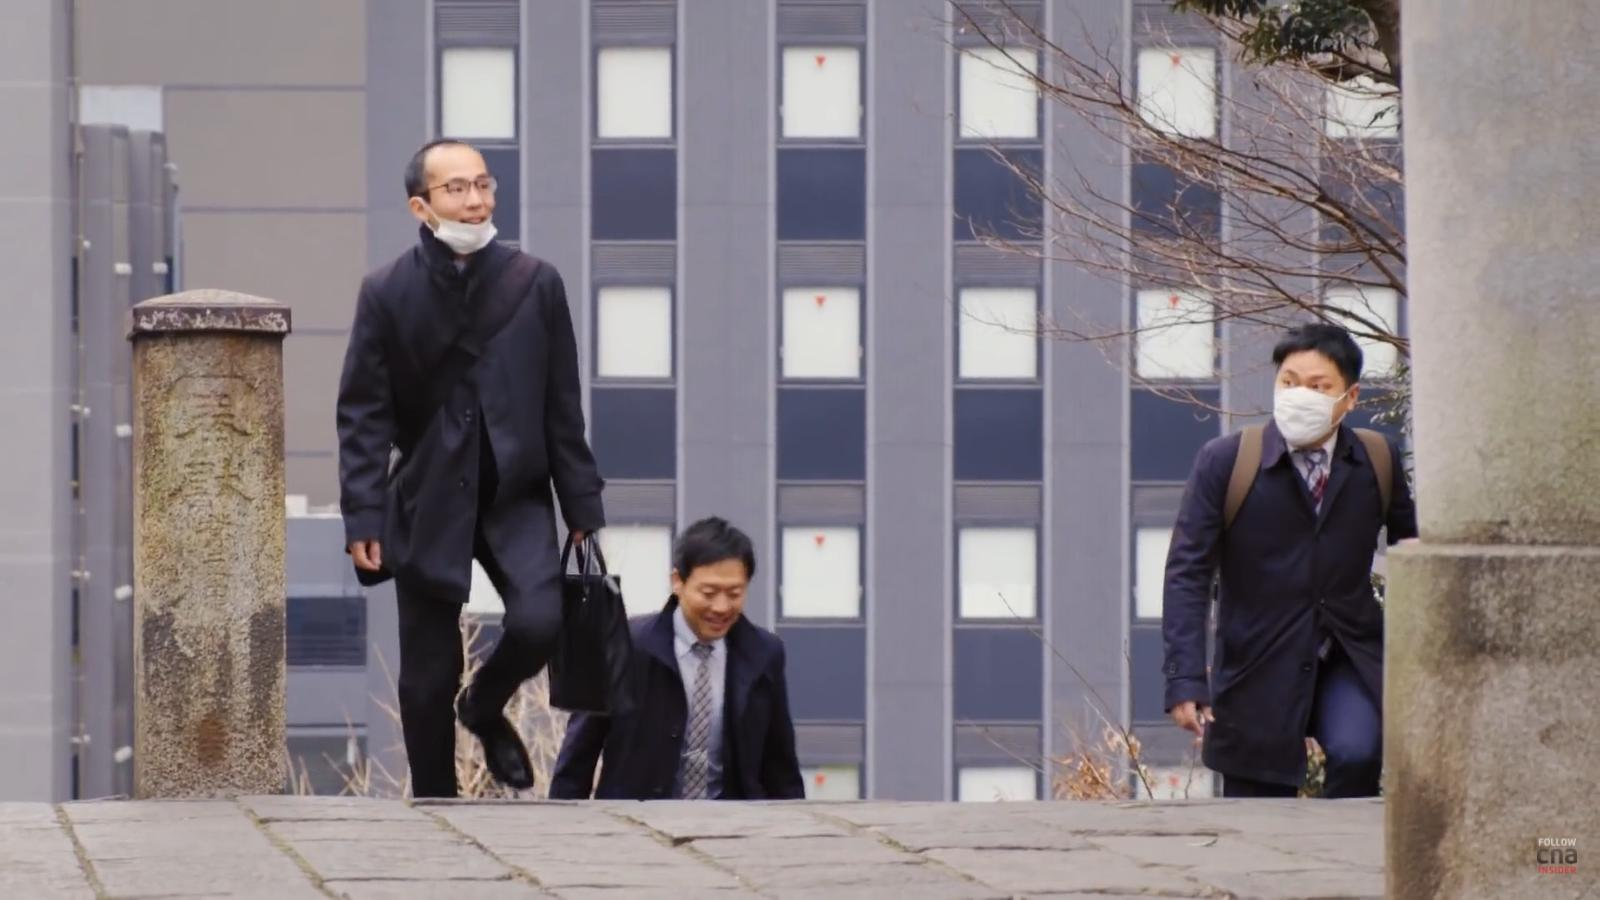with_incorrect_mask: (433, 176, 490, 240)
with_mask: (1281, 371, 1338, 432)
without_mask: (689, 580, 739, 627)
